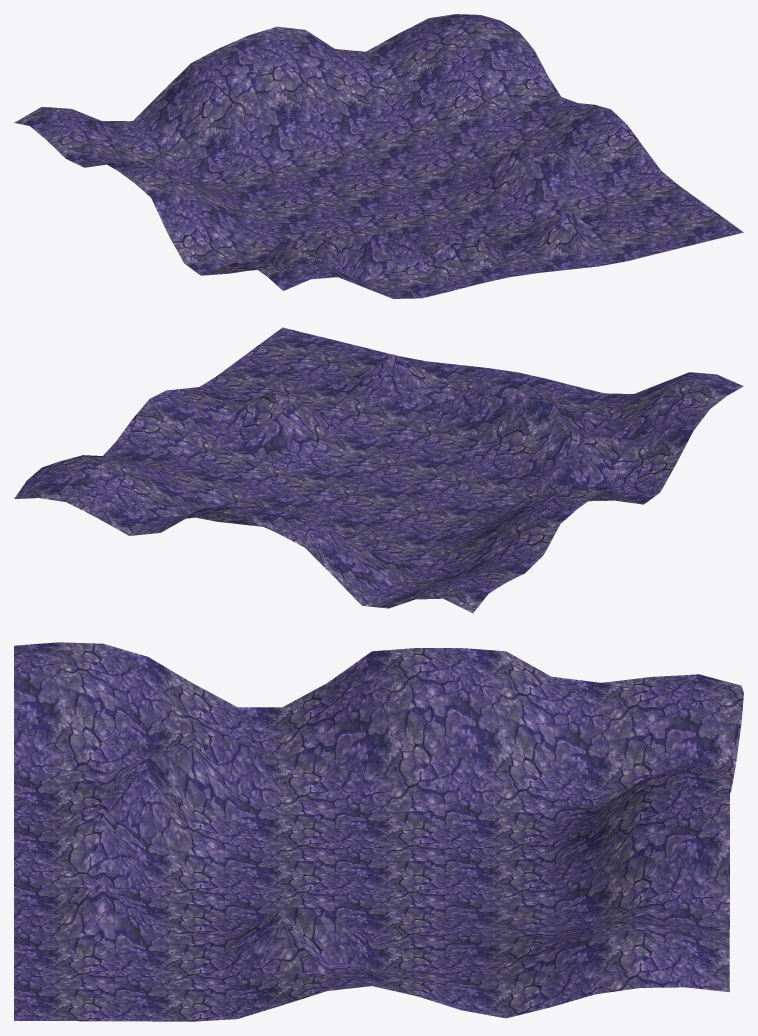
The model's file is base-environment.glb.
3 renders of one model, top to bottom at view 1: azimuth 30°, elevation 25°; view 2: azimuth 150°, elevation 25°; view 3: azimuth 270°, elevation 25°, orthographic. The views are drawn at different scales.
Parts seen in each view (by area): view 1: PURP; view 2: PURP; view 3: PURP.
Part boxes in pixels (x1,y1,x2,y2): PURP: [14, 14, 743, 298]; PURP: [14, 327, 743, 613]; PURP: [14, 642, 743, 1021].
Size of what is drawn, in the model's own units: 1790 by 253 by 1792.
1 material, 1 textured.
